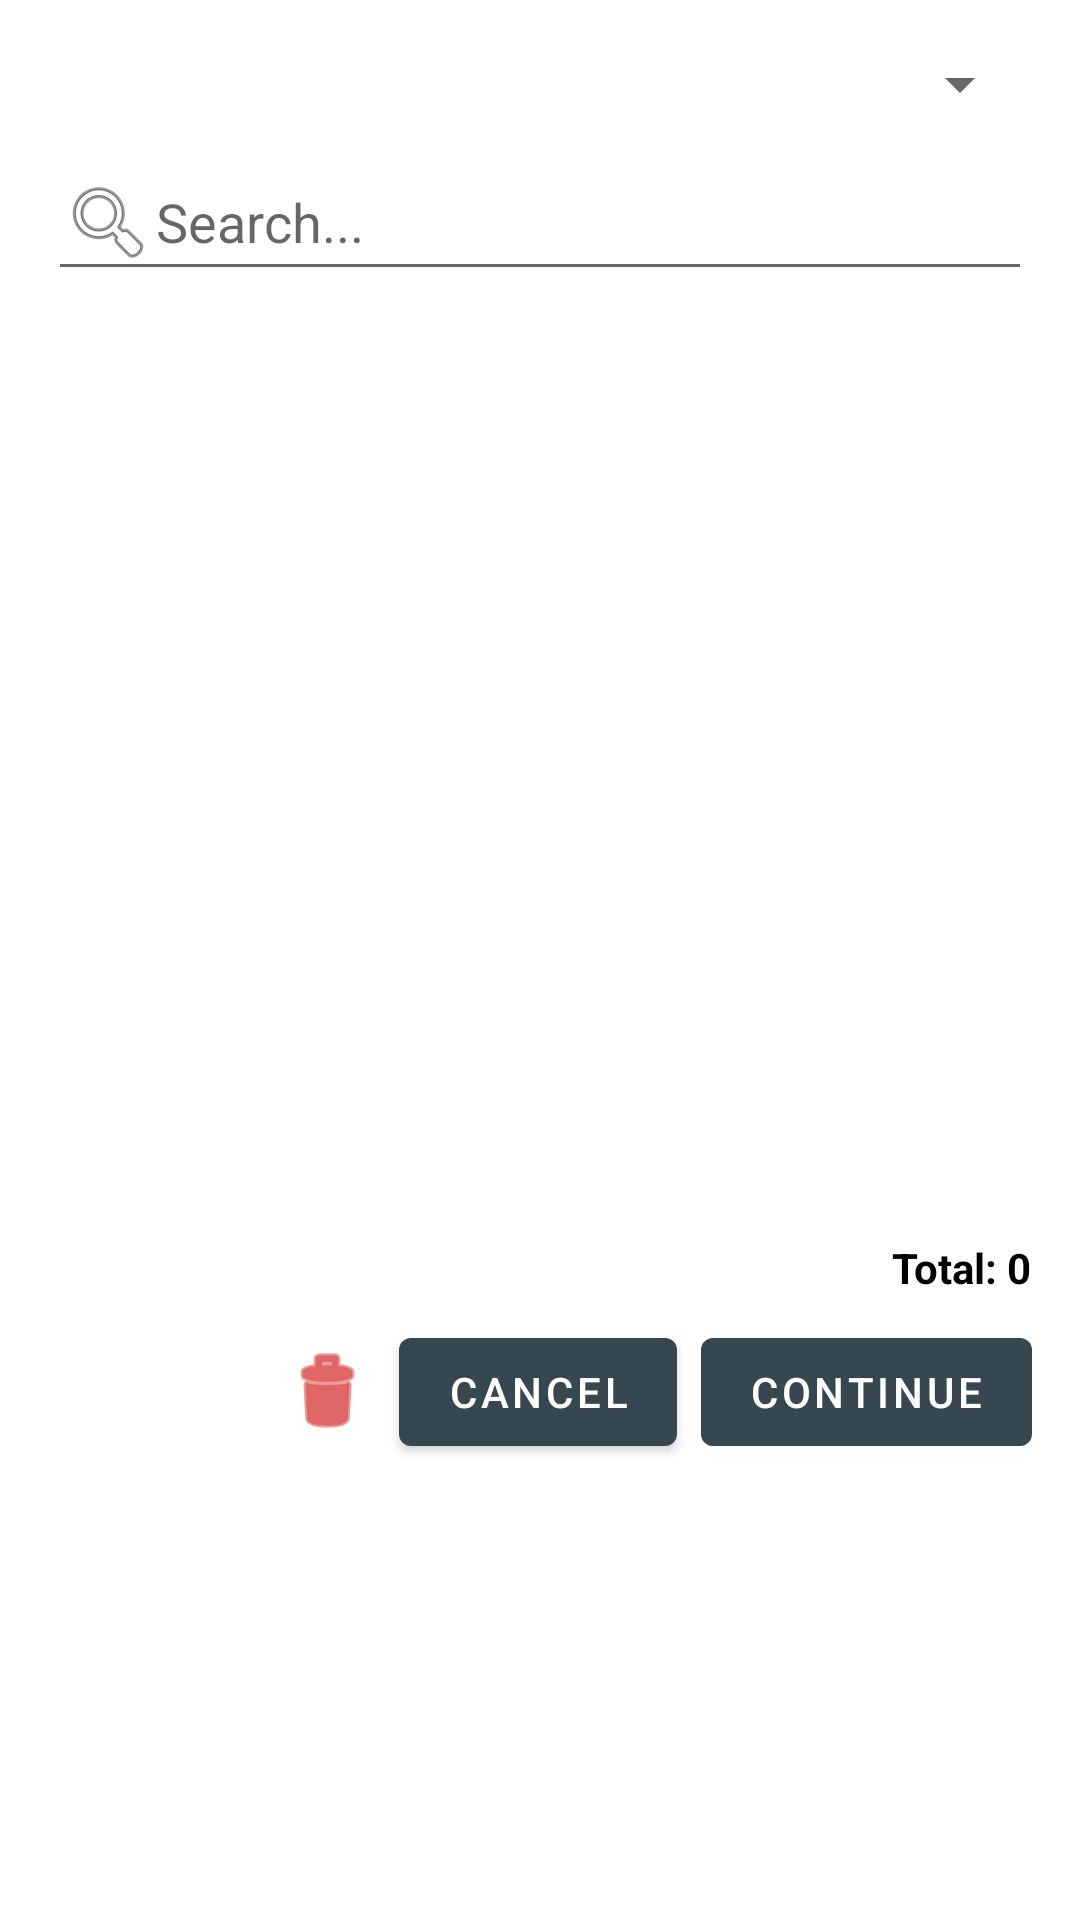

Icon click points for this 1080x1920 phone screenshot, format point (x, y):
Clear all selections: point (327, 1390)
